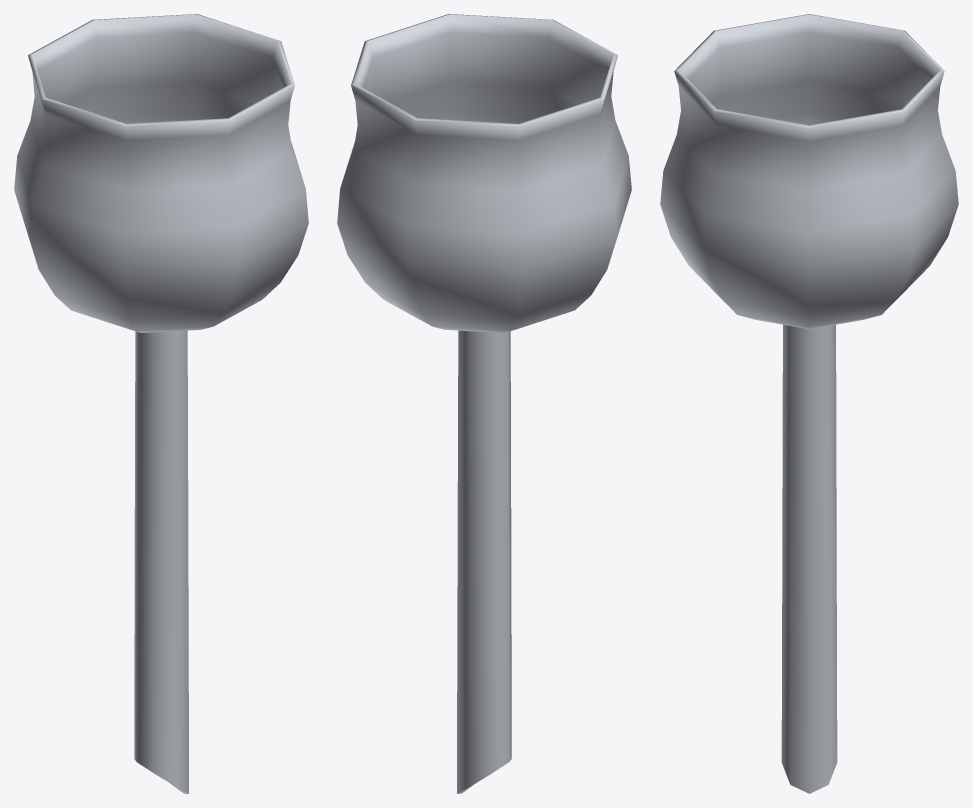
File: funnel_thistle_funnel.glb
3 views of the same model, side by side, from view 1: azimuth 30°, elevation 25°; view 2: azimuth 150°, elevation 25°; view 3: azimuth 270°, elevation 25° (orthographic). The views are drawn at different scales.
Parts seen in each view (by area): view 1: funnel_thistle_funnel; view 2: funnel_thistle_funnel; view 3: funnel_thistle_funnel.
Boxes of the visible parts, <box> form: funnel_thistle_funnel: <box>14,14,308,793</box>; funnel_thistle_funnel: <box>337,14,631,793</box>; funnel_thistle_funnel: <box>660,14,958,793</box>.
Size of the model in its own units: 12.85 by 33.83 by 12.85.
Materials: 1 (1 with a texture image).
